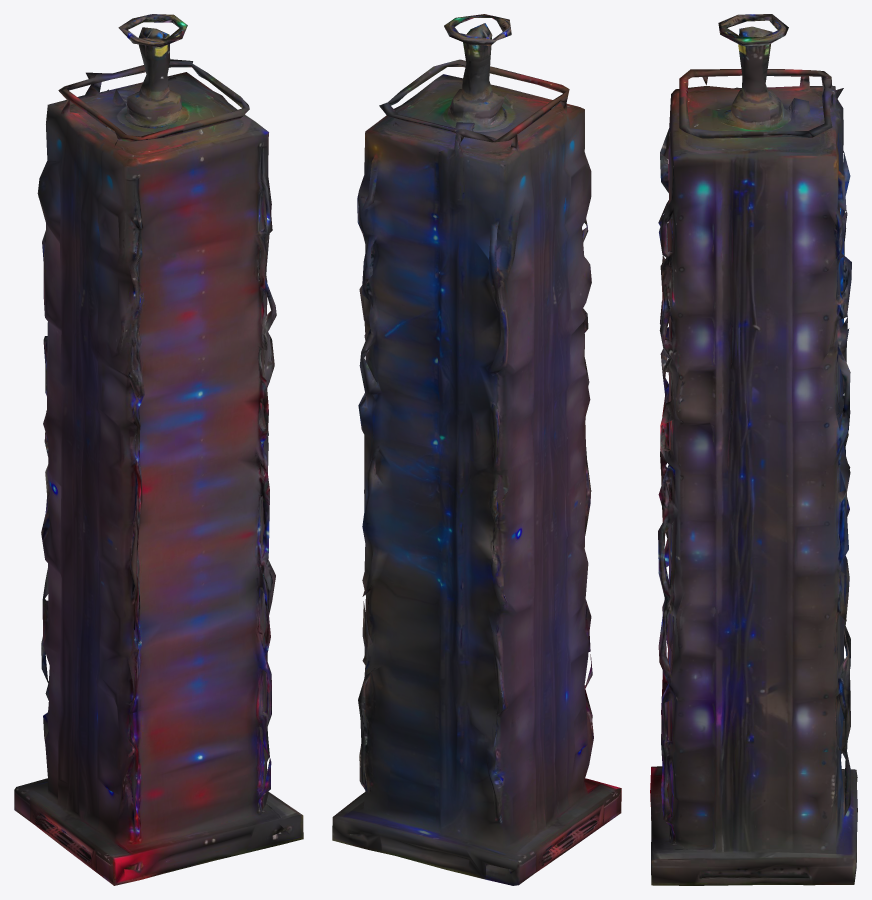
3 renders of one model, left to right at view 1: azimuth 30°, elevation 25°; view 2: azimuth 150°, elevation 25°; view 3: azimuth 270°, elevation 25°, orthographic.
Visible parts, largest first — view 1: Mesh1.0; view 2: Mesh1.0; view 3: Mesh1.0.
Boxes of the visible parts, left/top/right/bottom form: Mesh1.0: left=14, top=14, right=303, bottom=885; Mesh1.0: left=332, top=14, right=621, bottom=885; Mesh1.0: left=650, top=14, right=857, bottom=885.
Size of the model in its own units: 49.9 by 200 by 46.43.
1 material, 1 textured.
